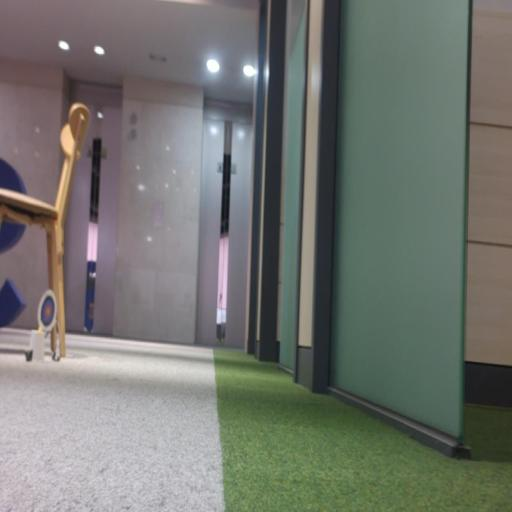target: (38, 289, 56, 332)
